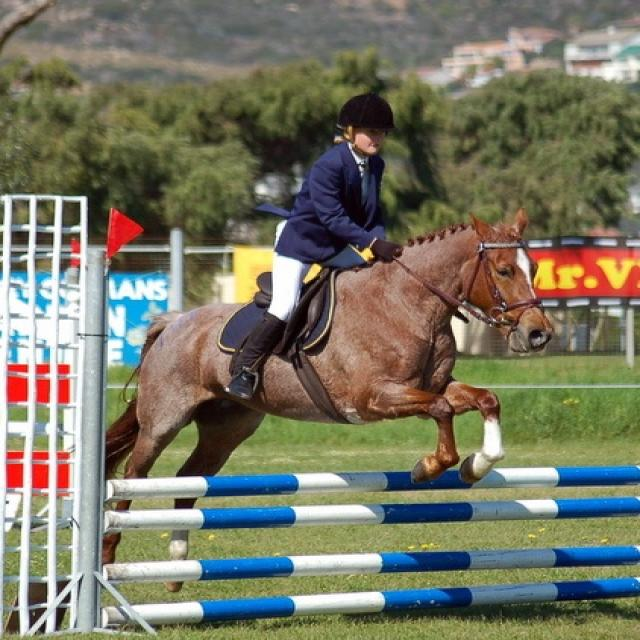horse: (96, 211, 555, 593)
